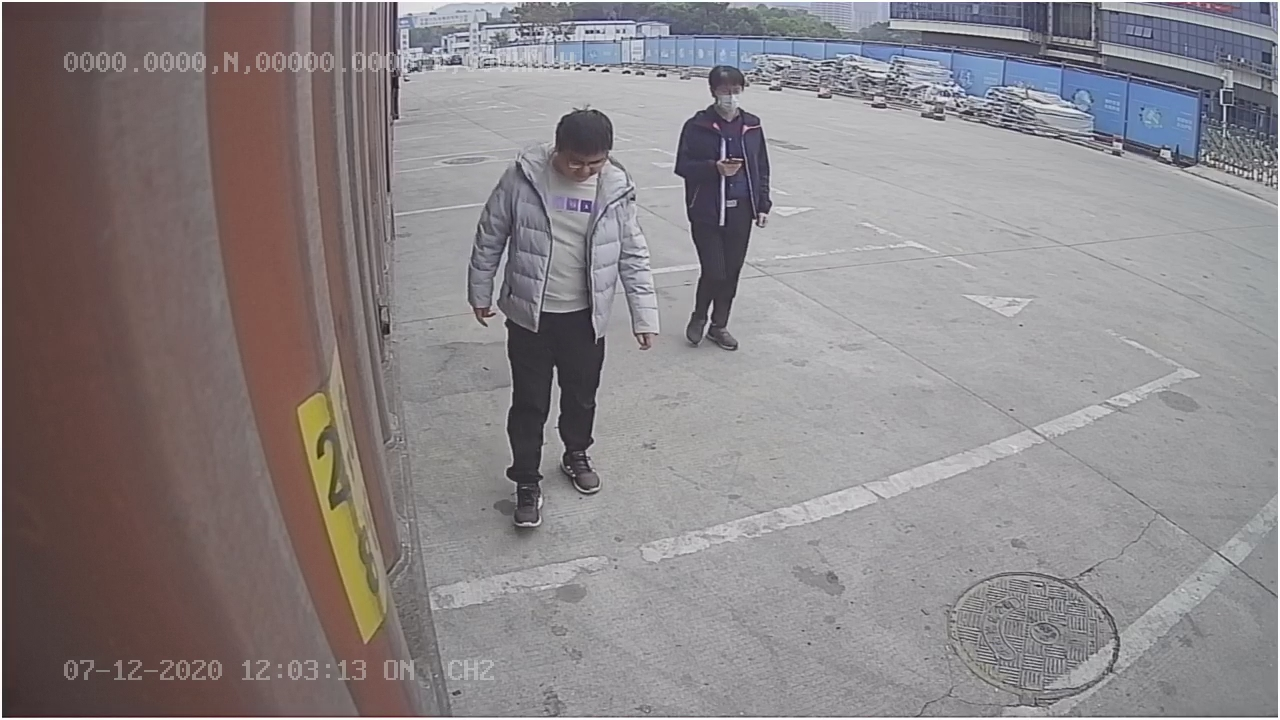person: (465, 95, 658, 529), (672, 48, 775, 354)
